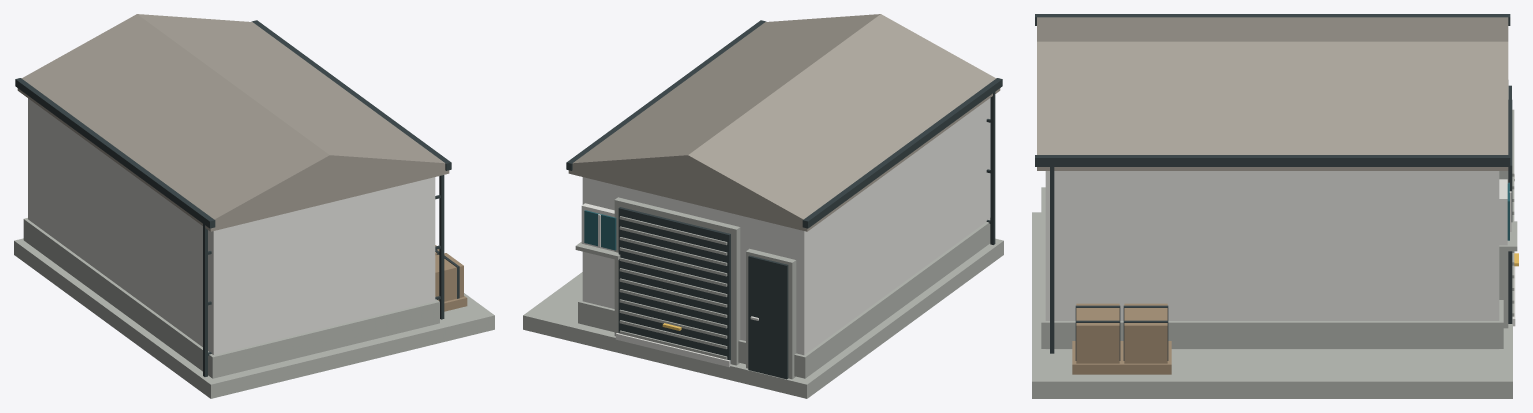
File: ENV_SupplyDepot.fbx
3 views of the same model, side by side, from view 1: azimuth 30°, elevation 25°; view 2: azimuth 150°, elevation 25°; view 3: azimuth 270°, elevation 25° (orthographic). The views are drawn at different scales.
Visible parts, largest first — view 1: ENV_SupplyDepot_Root_Visual; view 2: ENV_SupplyDepot_Root_Visual; view 3: ENV_SupplyDepot_Root_Visual.
Boxes of the visible parts, left/top/right/bottom form: ENV_SupplyDepot_Root_Visual: left=14, top=14, right=494, bottom=398; ENV_SupplyDepot_Root_Visual: left=523, top=14, right=1003, bottom=398; ENV_SupplyDepot_Root_Visual: left=1032, top=14, right=1518, bottom=398.
Bounding box in the file's own units: 500 × 358 × 607.
